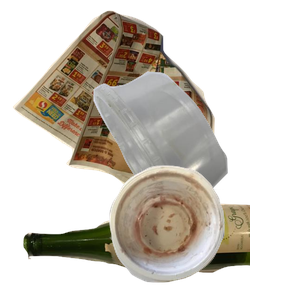glass: (21, 201, 261, 300)
paper: (10, 10, 217, 189)
plastic: (91, 69, 300, 249)
trash: (107, 163, 300, 300)
